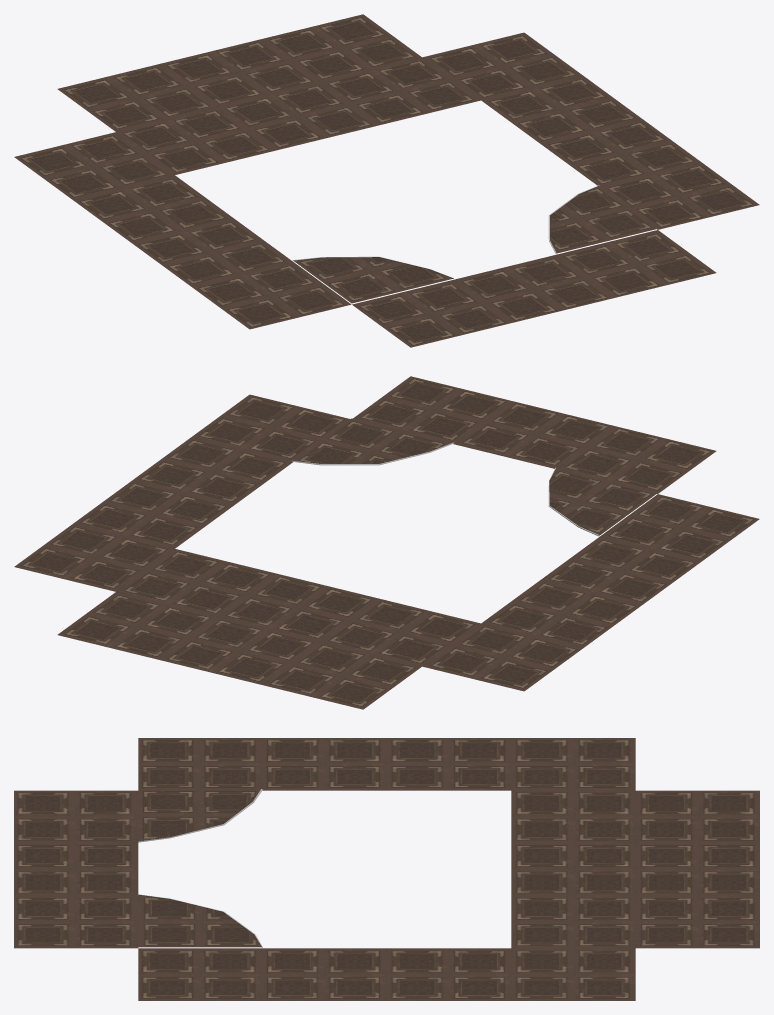
File: Homeworld_Interior_Ly_Room_P_Ceiling_01_Vo.fbx
3 renders of one model, top to bottom at view 1: azimuth 30°, elevation 25°; view 2: azimuth 150°, elevation 25°; view 3: azimuth 270°, elevation 25°, orthographic. The views are drawn at different scales.
Visible parts, largest first — view 1: Homeworld_Interior_Ly_Room_P_Ceiling_01_Vo; view 2: Homeworld_Interior_Ly_Room_P_Ceiling_01_Vo; view 3: Homeworld_Interior_Ly_Room_P_Ceiling_01_Vo.
Part boxes in pixels (<box>): Homeworld_Interior_Ly_Room_P_Ceiling_01_Vo: <box>14,14,759,347</box>; Homeworld_Interior_Ly_Room_P_Ceiling_01_Vo: <box>14,376,759,709</box>; Homeworld_Interior_Ly_Room_P_Ceiling_01_Vo: <box>14,738,759,1000</box>.
Size of the model in its own units: 25 by 0.0656 by 30.
